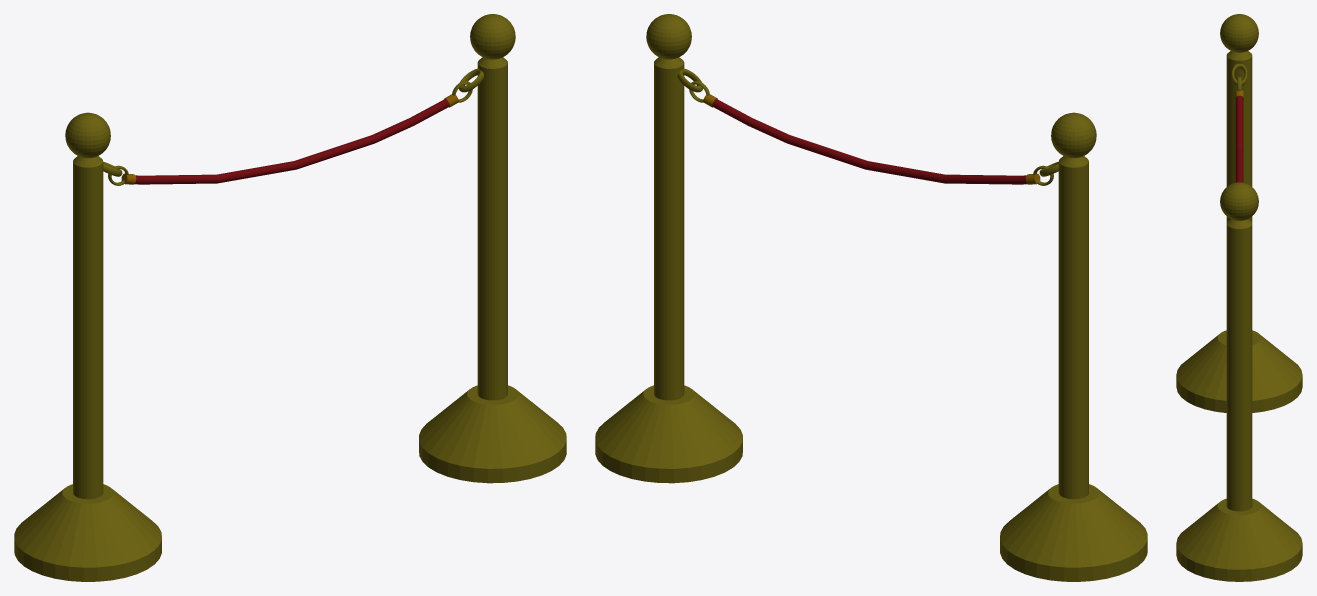
Rendered from Museum_Fence1.fbx.
The picture shows the model from 3 angles, left to right: view 1: azimuth 30°, elevation 25°; view 2: azimuth 150°, elevation 25°; view 3: azimuth 270°, elevation 25°; orthographic projection. The views are drawn at different scales.
Visible parts, largest first — view 1: Circle, Cylinder.001; view 2: Circle, Cylinder.001; view 3: Circle, Cylinder.001.
Part boxes in pixels (box(x1,y1,x2,y2)): Circle: box(14, 14, 566, 581); Cylinder.001: box(134, 99, 449, 184); Circle: box(595, 14, 1147, 581); Cylinder.001: box(712, 99, 1027, 184); Circle: box(1176, 14, 1302, 581); Cylinder.001: box(1235, 96, 1243, 182).
Size of the model in its own units: 249 by 195 by 60.
